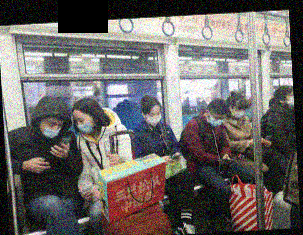with_mask: (40, 117, 63, 138), (73, 115, 96, 136), (146, 108, 163, 126), (208, 112, 226, 128), (232, 106, 245, 119), (284, 92, 294, 105)
